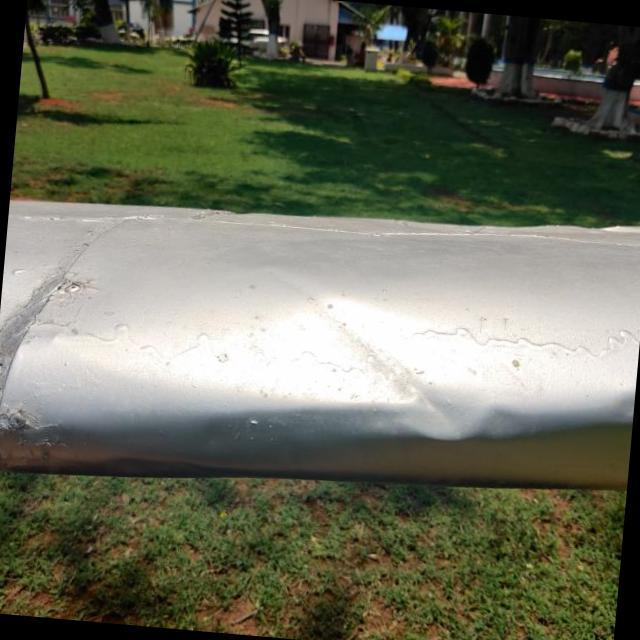Dent: (278, 270, 551, 477)
